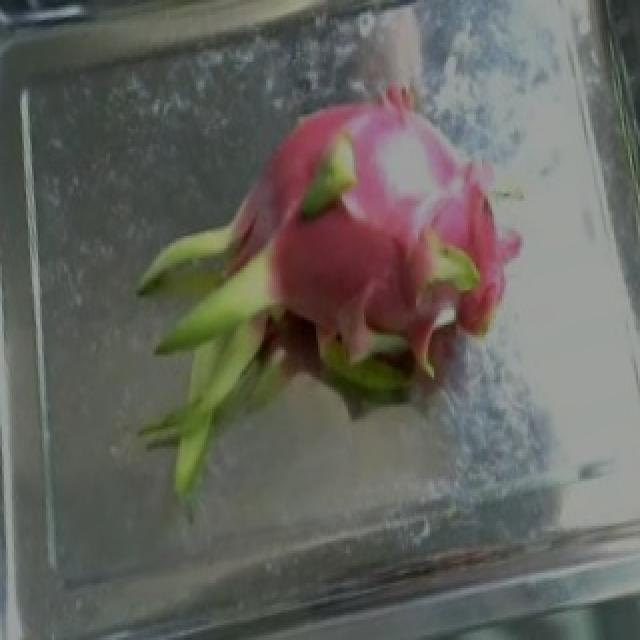fruit: (104, 42, 550, 499)
